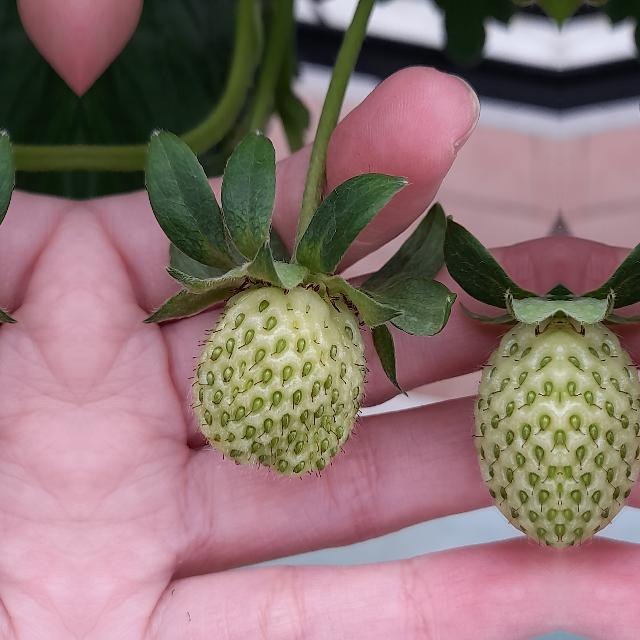Health_25: (190, 284, 366, 478), (469, 314, 559, 554), (561, 314, 640, 554)
